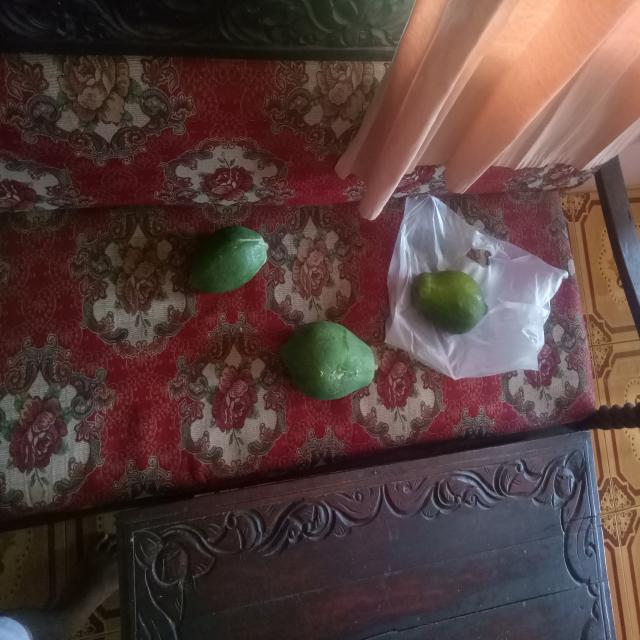Pepaya unrippen: (268, 313, 382, 416), (182, 220, 270, 304), (404, 260, 493, 337)
